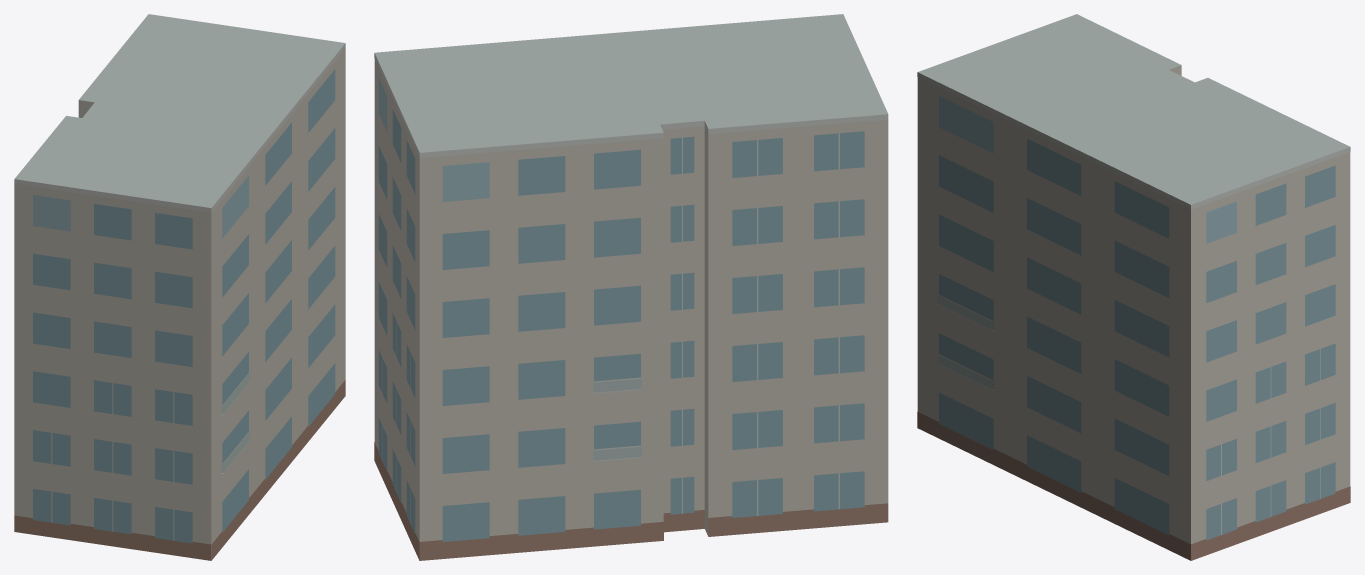
File: survey-upis-33020592.glb
3 views of the same model, side by side, from view 1: azimuth 30°, elevation 25°; view 2: azimuth 150°, elevation 25°; view 3: azimuth 270°, elevation 25° (orthographic). The views are drawn at different scales.
Visible parts, largest first — view 1: survey-upis-33020592.tmp; view 2: survey-upis-33020592.tmp; view 3: survey-upis-33020592.tmp.
Part boxes in pixels (x1,y1,x2,y2): survey-upis-33020592.tmp: (14, 14, 345, 560); survey-upis-33020592.tmp: (374, 14, 888, 560); survey-upis-33020592.tmp: (917, 14, 1350, 560).
Size of the model in its own units: 21.06 by 18.3 by 20.18.
